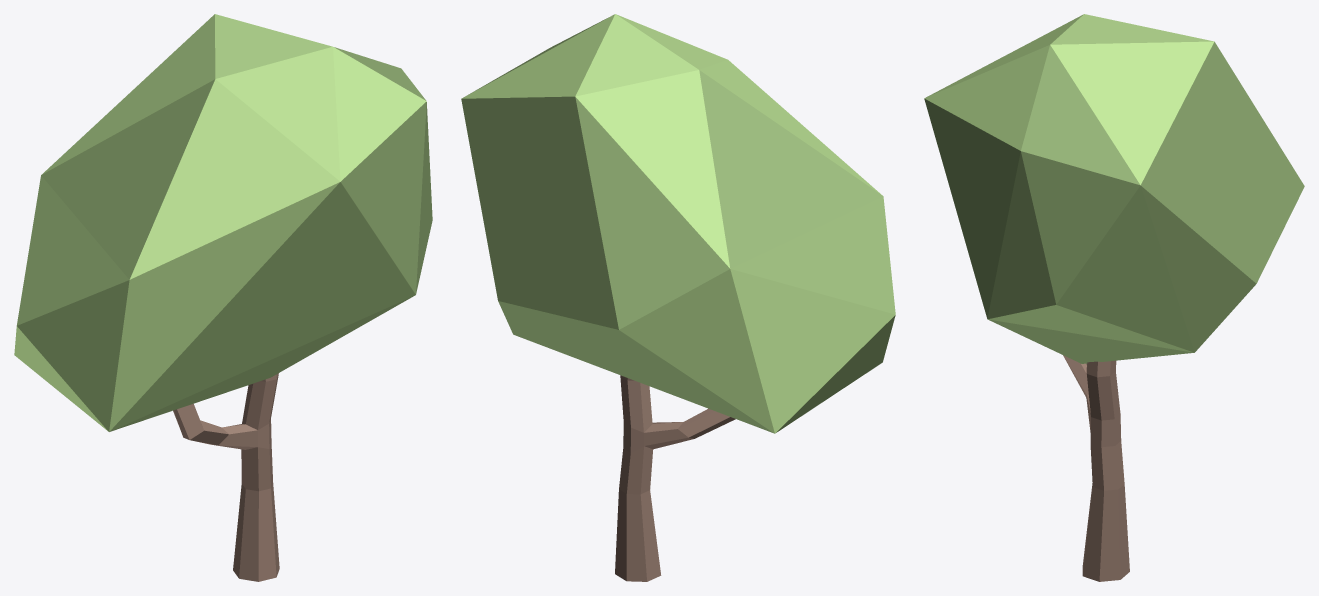
File: Tree_2.fbx
3 renders of one model, left to right at view 1: azimuth 30°, elevation 25°; view 2: azimuth 150°, elevation 25°; view 3: azimuth 270°, elevation 25°, orthographic. The views are drawn at different scales.
Parts seen in each view (by area): view 1: tree_1; view 2: tree_1; view 3: tree_1.
Boxes of the visible parts, box(x1,y1,x2,y2) form: tree_1: box(14, 14, 432, 581); tree_1: box(461, 14, 895, 581); tree_1: box(924, 14, 1304, 581).
Size of the model in its own units: 276 by 342 by 213.
